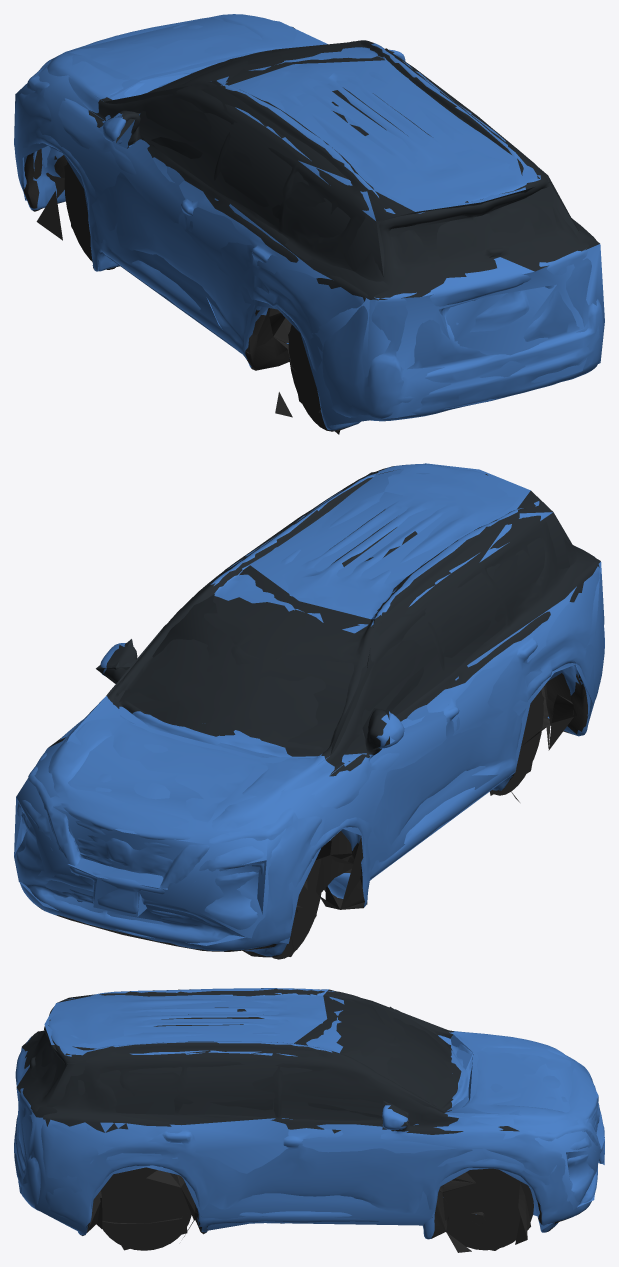
File: nissan-rogue.glb
3 renders of one model, top to bottom at view 1: azimuth 30°, elevation 25°; view 2: azimuth 150°, elevation 25°; view 3: azimuth 270°, elevation 25°, orthographic. The views are drawn at different scales.
Visible parts, largest first — view 1: body, far; view 2: body, far; view 3: body, far.
Boxes of the visible parts, bbox=[...] form: body: bbox=[14, 14, 603, 431]; far: bbox=[14, 17, 604, 434]; body: bbox=[16, 464, 604, 959]; far: bbox=[14, 463, 604, 956]; body: bbox=[14, 988, 604, 1251]; far: bbox=[14, 989, 604, 1252].
Size of the model in its own units: 2.07 by 1.76 by 4.67.
